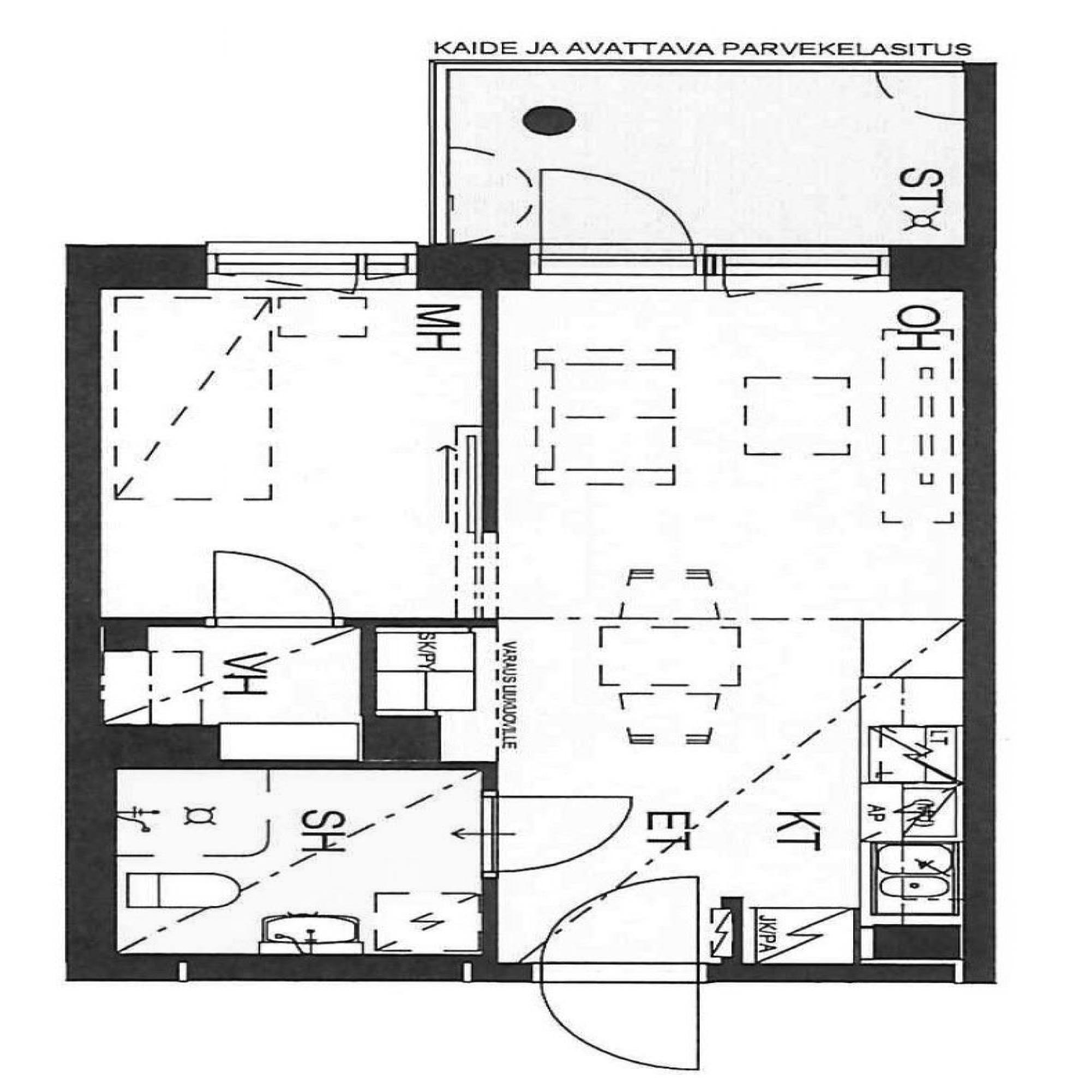wall: (65, 244, 995, 293), (962, 291, 995, 924), (63, 293, 106, 616), (67, 953, 496, 980), (61, 769, 122, 951), (494, 962, 995, 984), (960, 61, 995, 242), (65, 724, 224, 763), (482, 290, 503, 532), (873, 923, 995, 962), (478, 770, 500, 954), (360, 714, 443, 761), (63, 616, 494, 625), (63, 760, 494, 769), (63, 652, 106, 723), (65, 626, 149, 652), (360, 627, 378, 715), (718, 893, 741, 957)
